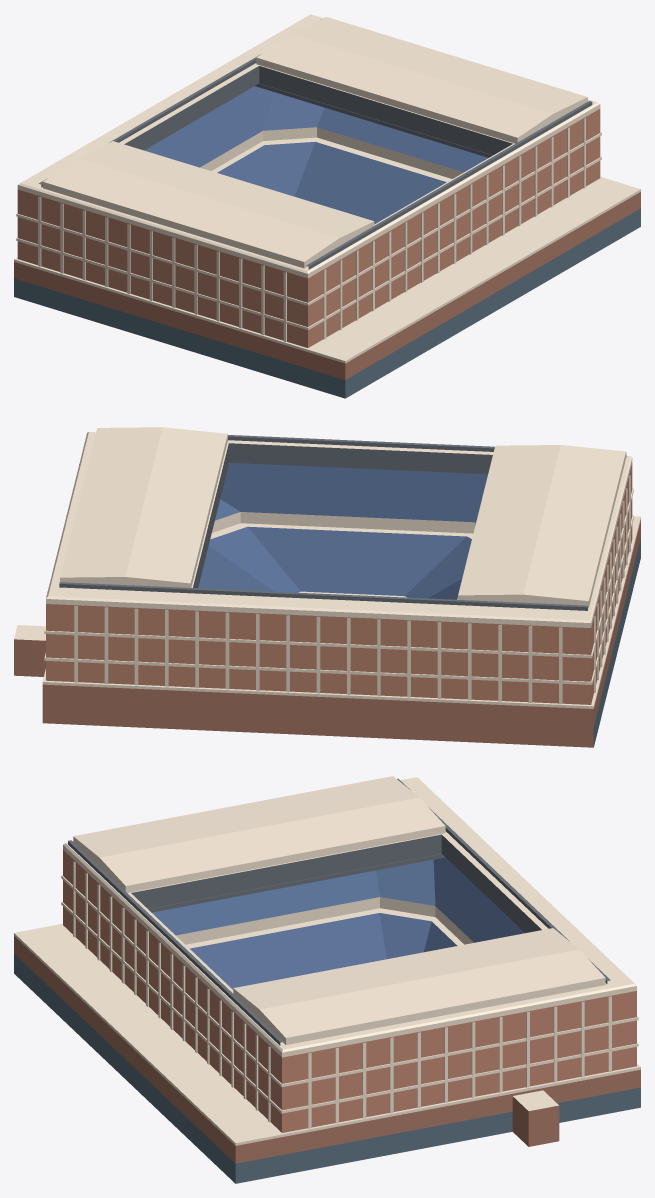
Rendered from nyc-louis-armstrong-stadium.glb.
The picture shows the model from 3 angles, top to bottom: view 1: azimuth 30°, elevation 25°; view 2: azimuth 150°, elevation 25°; view 3: azimuth 270°, elevation 25°; orthographic projection. The views are drawn at different scales.
Parts seen in each view (by area): view 1: Louis Armstrong Stadium; view 2: Louis Armstrong Stadium; view 3: Louis Armstrong Stadium.
Part boxes in pixels (box(x1,y1,x2,y2)): Louis Armstrong Stadium: box(14, 14, 640, 398); Louis Armstrong Stadium: box(14, 427, 640, 747); Louis Armstrong Stadium: box(14, 776, 640, 1183).
Size of the model in its own units: 138 by 29.9 by 127.
